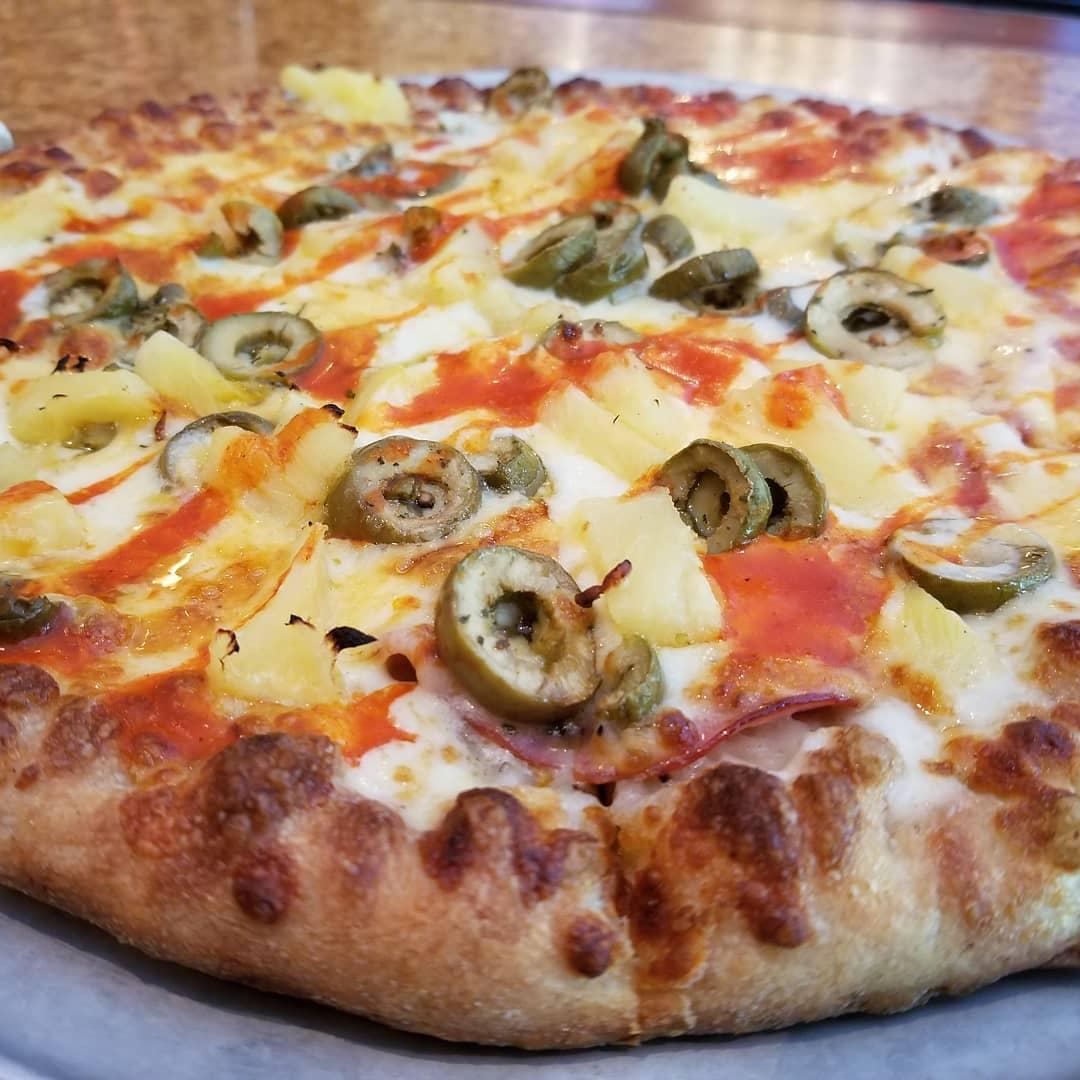Olives: (439, 541, 596, 701), (653, 433, 825, 541), (325, 433, 478, 541), (887, 513, 1052, 598), (813, 265, 937, 365), (525, 197, 646, 289), (15, 265, 180, 332), (201, 309, 316, 384), (169, 405, 278, 484), (565, 641, 661, 725), (645, 247, 750, 314), (477, 437, 546, 505), (625, 125, 689, 192), (929, 181, 996, 221), (289, 187, 349, 226)
Pineapple: (575, 491, 726, 644), (249, 565, 394, 698), (729, 377, 876, 501), (549, 349, 674, 461), (861, 585, 982, 677), (307, 269, 478, 328), (7, 365, 153, 434), (1, 481, 88, 590), (281, 73, 410, 126), (137, 333, 240, 398), (485, 137, 577, 204), (273, 417, 345, 498), (1, 181, 78, 244)
Pizza: (0, 69, 1080, 1051)
